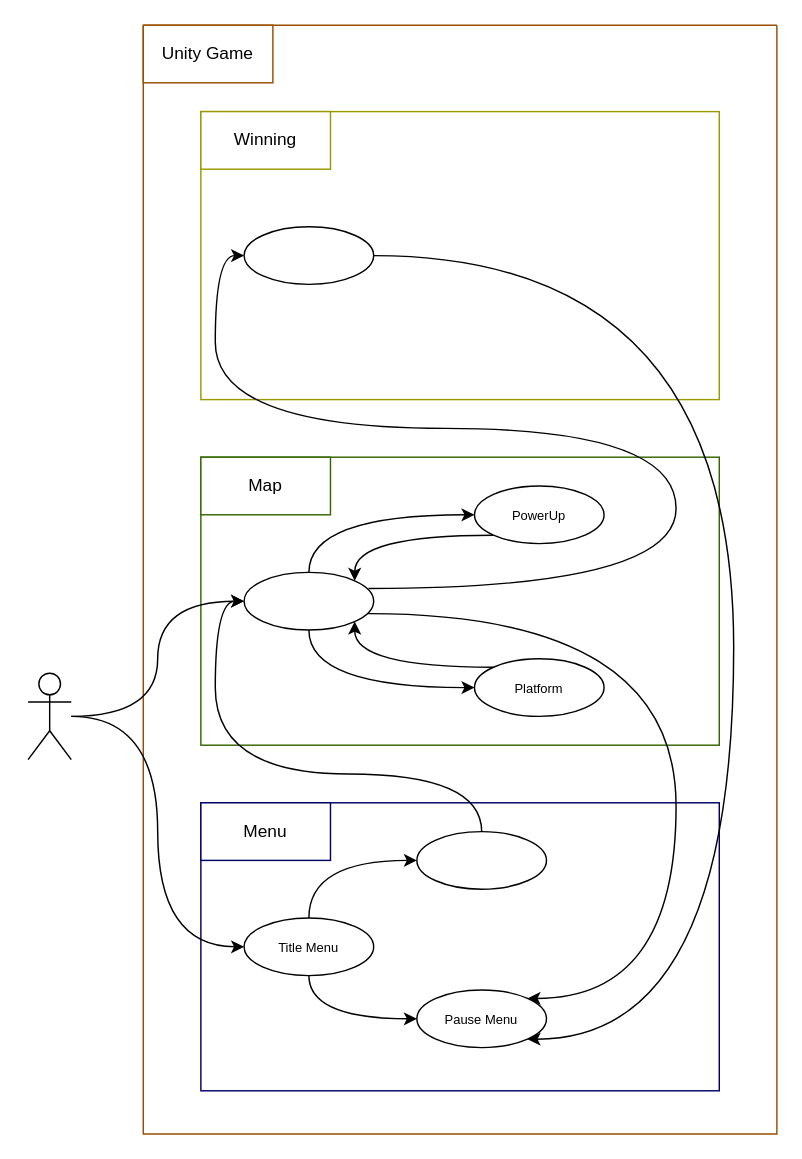
The diagram is 802 pixels wide and 1159 high, and some of its shapes have lost their labels. Here are the shapes that lost their labels. From the top down, the centre of each, then its label:
pixel 308 254: Winning options
pixel 308 600: Character Controler
pixel 49 716: Player
pixel 480 859: Play Game
